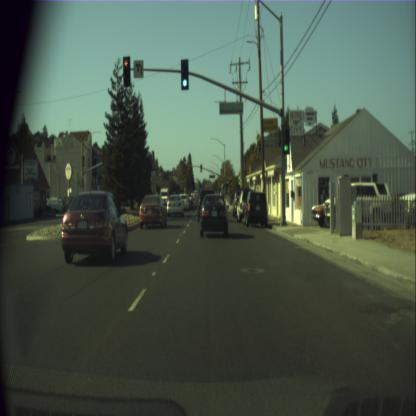Green: (180, 58, 188, 90), (282, 124, 289, 153), (200, 164, 202, 172)
RedLeft: (122, 56, 130, 85)
